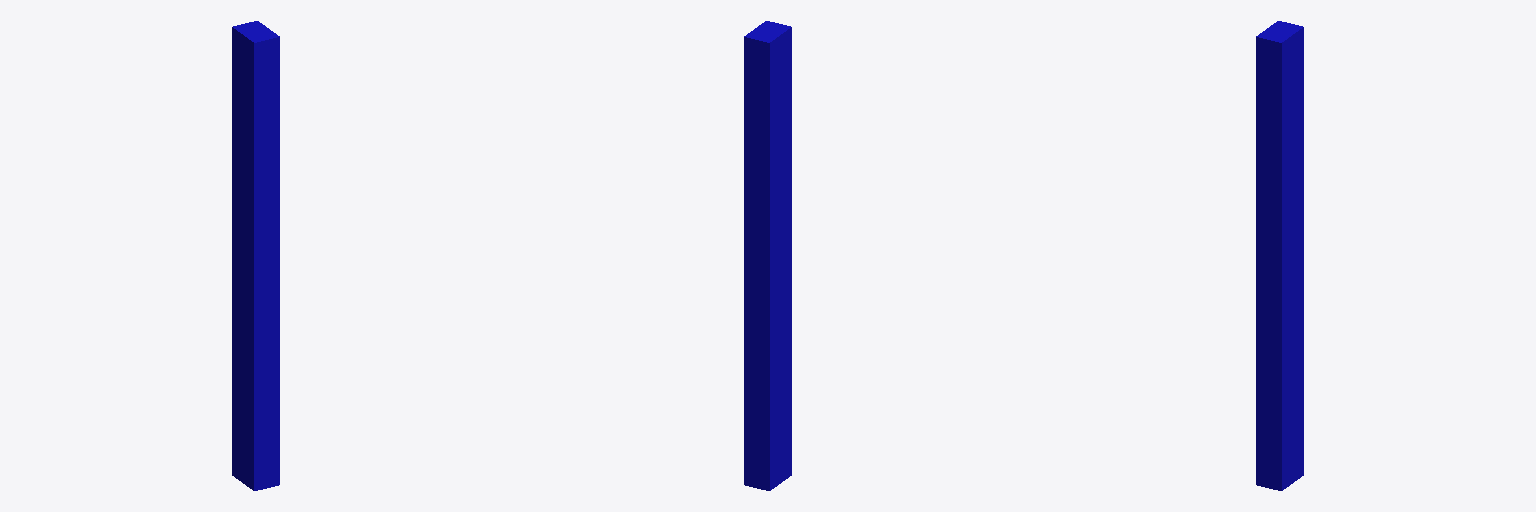
The robot description file, URDF, robot "simple_cuboid":
<?xml version="1.0"?>
<robot name="simple_cuboid">
  <link name="base">
    <inertial>
      <origin xyz="0 0 0" rpy="0 0 0" />
     <mass value="1.2" />
      <inertia ixx=".1" ixy="0" ixz="0" iyy=".1" iyz="0"
          izz=".1" />
    </inertial>
    <visual>
      <origin xyz="0 0 0" rpy="0 0 0" />
      <geometry>
        <box size="0.06 0.09 1" />
      </geometry>
      <material name="green">
        <color rgba="0.1 0.1 0.8 0.9" />
      </material>
    </visual>

    <!--
      This places contact spheres on the corners of the visual box and a
      *slightly* smaller inset contact box (centered on the visual origin). This
      accounts for issues in the contact computation providing stable table
      contact *and* supports grasping.

      When the box is in stable contact with the ground plane, the corner
      spheres will provide fixed contact points (simulating distributed contact
      points around the face).  However, for arbitrary grip configuration, the
      slightly inset box will provide contact with a *slight* offset (in this
      case a deviation of 0.0005 m from the visual surface).
     -->
    <collision>
      <geometry>
        <box size="0.059 0.089 0.999" />
      </geometry>
    </collision>

    <collision>
      <origin xyz="-0.03 -0.045 -0.5" rpy="0 0 0"/>
      <geometry>
        <sphere radius="1e-7"/>
      </geometry>
    </collision>
    <collision>
      <origin xyz="-0.03 0.045 -0.5" rpy="0 0 0"/>
      <geometry>
        <sphere radius="1e-7"/>
      </geometry>
    </collision>
    <collision>
      <origin xyz="0.03 0.045 -0.5" rpy="0 0 0"/>
      <geometry>
        <sphere radius="1e-7"/>
      </geometry>
    </collision>
    <collision>
      <origin xyz="0.03 -0.045 -0.5" rpy="0 0 0"/>
      <geometry>
        <sphere radius="1e-7"/>
      </geometry>
    </collision>

    <collision>
      <origin xyz="-0.03 -0.045 0.5" rpy="0 0 0"/>
      <geometry>
        <sphere radius="1e-7"/>
      </geometry>
    </collision>
    <collision>
      <origin xyz="-0.03 0.045 0.5" rpy="0 0 0"/>
      <geometry>
        <sphere radius="1e-7"/>
      </geometry>
    </collision>
    <collision>
      <origin xyz="0.03 0.045 0.5" rpy="0 0 0"/>
      <geometry>
        <sphere radius="1e-7"/>
      </geometry>
    </collision>
    <collision>
      <origin xyz="0.03 -0.045 0.5" rpy="0 0 0"/>
      <geometry>
        <sphere radius="1e-7"/>
      </geometry>
    </collision>

   </link>
</robot>

--- Facts derived from the render (not from the file) ---
Views: 3 orthographic renders of the robot side by side, from view 1: azimuth 30°, elevation 25°; view 2: azimuth 150°, elevation 25°; view 3: azimuth 330°, elevation 25°.
Robot: simple_cuboid — 1 links, 0 joints (none); root link base; default pose: every joint at zero.
Links seen in each view (by area): view 1: base; view 2: base; view 3: base.
Boxes of the visible links, bbox=[...] form: base: bbox=[232, 21, 279, 490]; base: bbox=[744, 21, 791, 490]; base: bbox=[1256, 21, 1303, 490].
Size in the robot's own frame: 0.06 by 0.09 by 1 metres.
Geometry: primitives only (box / cylinder / sphere), no mesh files.
